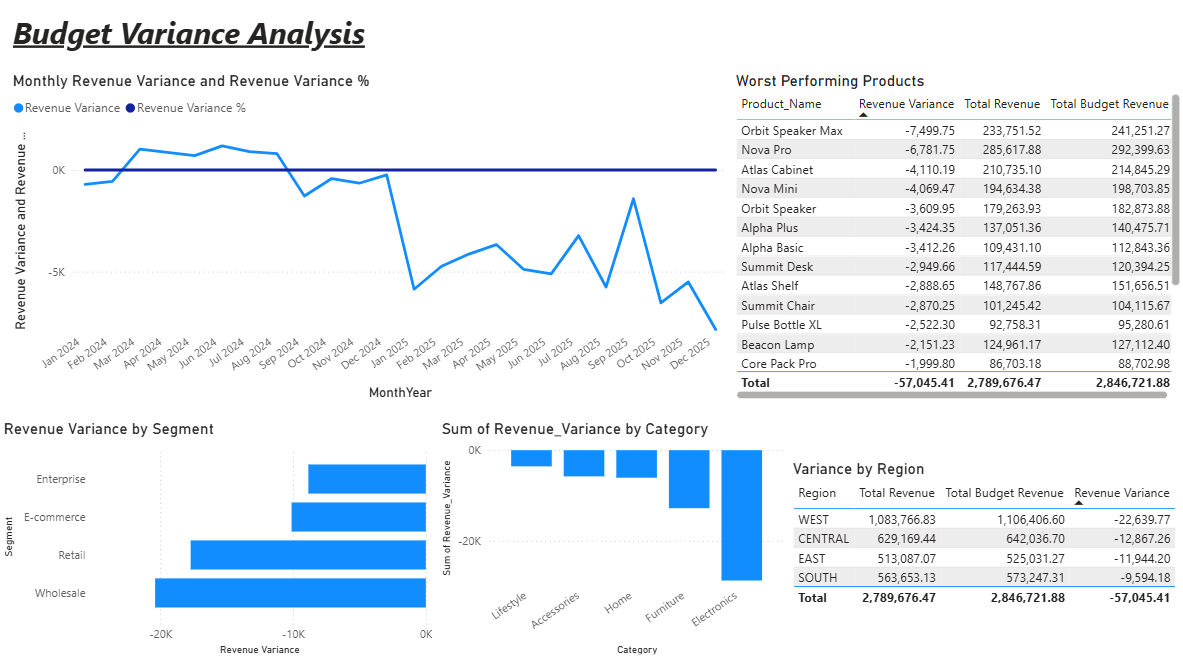

This screenshot's page, from the dashboard's own definition file:
{"tool":"powerbi","page":{"name":"Budget Variance","canvas":[1280,720],"ordinal":2},"visuals":[{"type":"lineChart","title":"Monthly Revenue Variance and Revenue Variance %","fields":{"Category":["DimDate.MonthYear"],"Y":["FactSalesKPI.Revenue Variance","FactSalesKPI.Revenue Variance %"]},"box":[9.2,84.2,780.5,359.1],"z":0},{"type":"tableEx","title":"Variance by Region","fields":{"Values":["FactSalesKPI.Region","FactSalesKPI.Total Revenue","FactSalesKPI.Total Budget Revenue","FactSalesKPI.Revenue Variance"]},"box":[852,503.7,427.1,172],"z":1000},{"type":"tableEx","title":"Worst Performing Products","fields":{"Values":["FactSalesKPI.Product_Name","FactSalesKPI.Revenue Variance","FactSalesKPI.Total Revenue","FactSalesKPI.Total Budget Revenue"]},"box":[789.7,84.2,489.5,359.1],"z":2000},{"type":"barChart","fields":{"Y":["FactSalesKPI.Revenue Variance"],"Category":["FactSalesKPI.Segment"]},"box":[-0.3,460.2,472.4,258.9],"z":3000},{"type":"clusteredColumnChart","fields":{"Category":["FactBudgetVariance.Category"],"Y":["Sum(FactBudgetVariance.Revenue_Variance)"]},"box":[472.2,460.2,379.8,258.9],"z":4000},{"type":"textbox","box":[9.7,14.6,463.1,53.4],"z":5000}]}

Visuals, with their boxes in screenshot pixels (x1, y1, x2, y2), scaled from the page's 1280x720 canvas onto the 1183x657 screenshot:
"Monthly Revenue Variance and Revenue Variance %" lineChart: <region>9, 77, 730, 405</region>
"Variance by Region" tableEx: <region>787, 460, 1182, 617</region>
"Worst Performing Products" tableEx: <region>730, 77, 1182, 405</region>
barChart - FactSalesKPI.Revenue Variance x FactSalesKPI.Segment: <region>0, 420, 436, 656</region>
clusteredColumnChart - FactBudgetVariance.Category x Sum(FactBudgetVariance.Revenue_Variance): <region>436, 420, 787, 656</region>
textbox: <region>9, 13, 437, 62</region>
